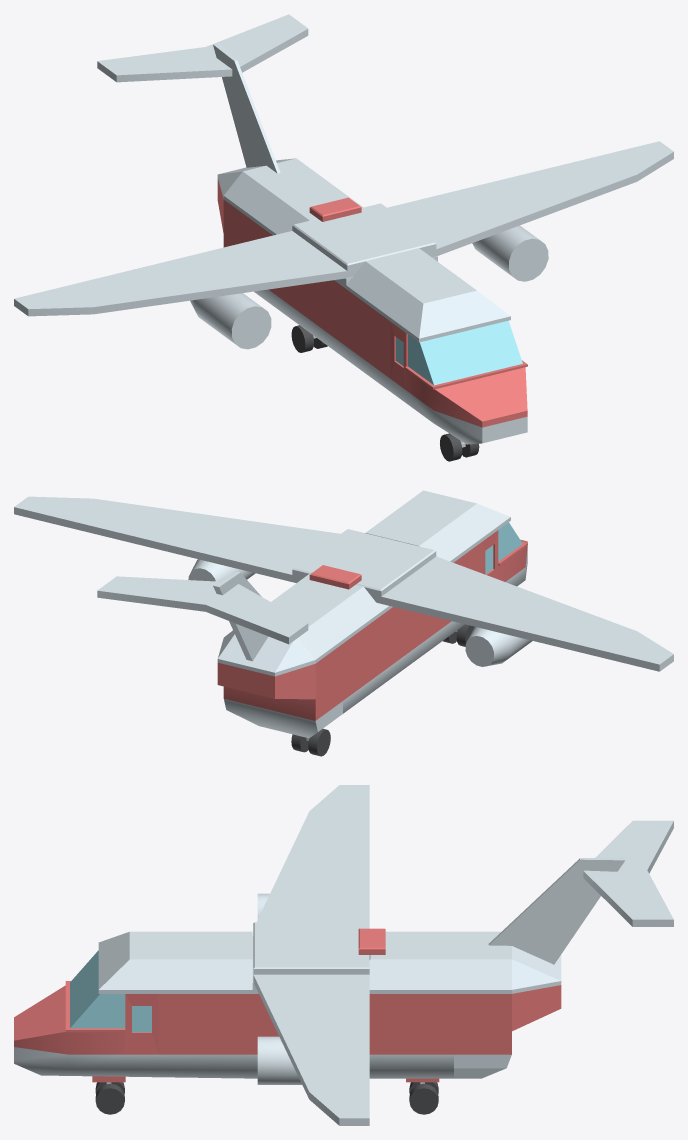
The model's file is AirPlane01.fbx.
3 renders of one model, top to bottom at view 1: azimuth 30°, elevation 25°; view 2: azimuth 150°, elevation 25°; view 3: azimuth 270°, elevation 25°, orthographic. The views are drawn at different scales.
Visible parts, largest first — view 1: body; view 2: body; view 3: body.
Boxes of the visible parts, bbox=[...] form: body: bbox=[14, 14, 673, 461]; body: bbox=[14, 490, 673, 756]; body: bbox=[14, 785, 673, 1125].
Bounding box in the file's own units: 140 × 117 × 48.88.
